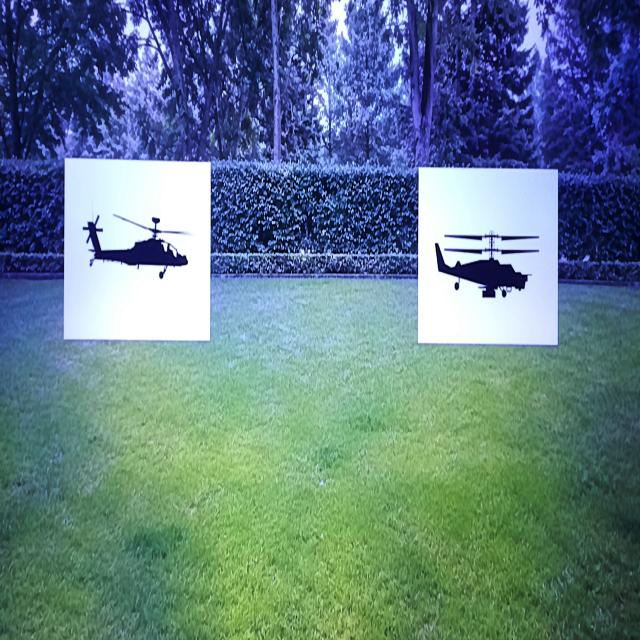Apache friendly: (83, 214, 188, 279)
Ka-52 Enemy: (436, 232, 538, 297)
